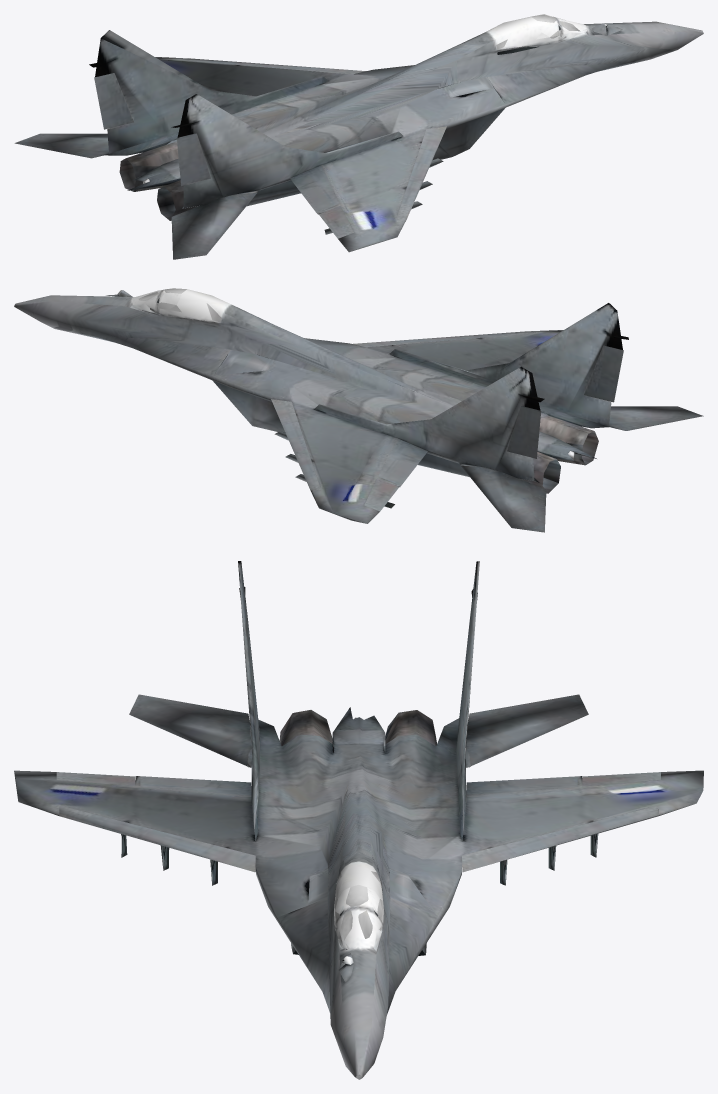
Rendered from mig29_lo.glb.
3 views of the same model, one above another, from view 1: azimuth 30°, elevation 25°; view 2: azimuth 150°, elevation 25°; view 3: azimuth 270°, elevation 25° (orthographic). The views are drawn at different scales.
Visible parts, largest first — view 1: g_mig29_hull; view 2: g_mig29_hull; view 3: g_mig29_hull.
Part boxes in pixels (<box>): g_mig29_hull: <box>14,14,703,259</box>; g_mig29_hull: <box>14,288,703,532</box>; g_mig29_hull: <box>14,561,703,1079</box>.
Size of the model in its own units: 17.3 by 4.12 by 12.27.
Materials: 1 (1 with a texture image).
